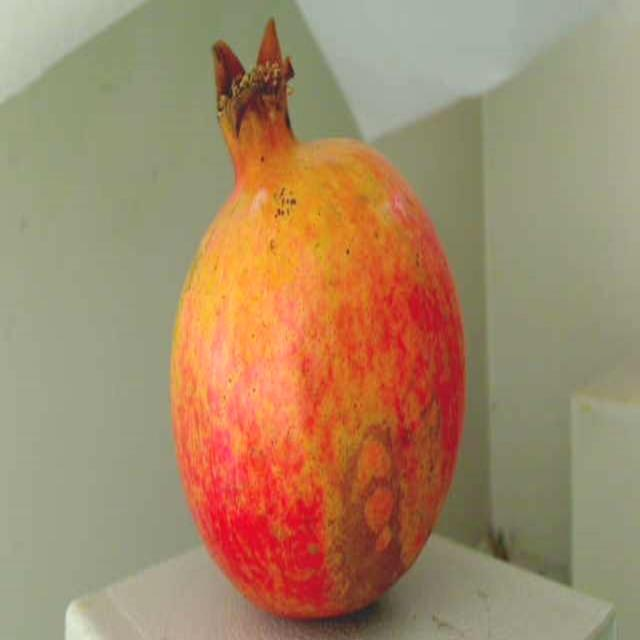pomegranate: (161, 15, 476, 640)
